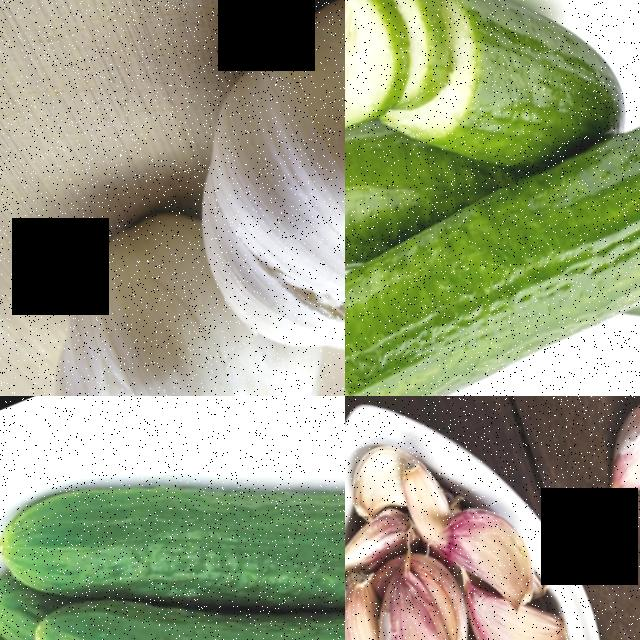cucumber: (345, 86, 640, 396), (0, 404, 325, 640), (396, 0, 640, 203), (21, 519, 344, 640), (345, 87, 443, 304), (345, 0, 430, 156)
garlic: (162, 0, 345, 394), (0, 194, 297, 396), (433, 491, 550, 628), (359, 566, 484, 640), (468, 577, 593, 640), (590, 396, 640, 516), (345, 559, 402, 640)
